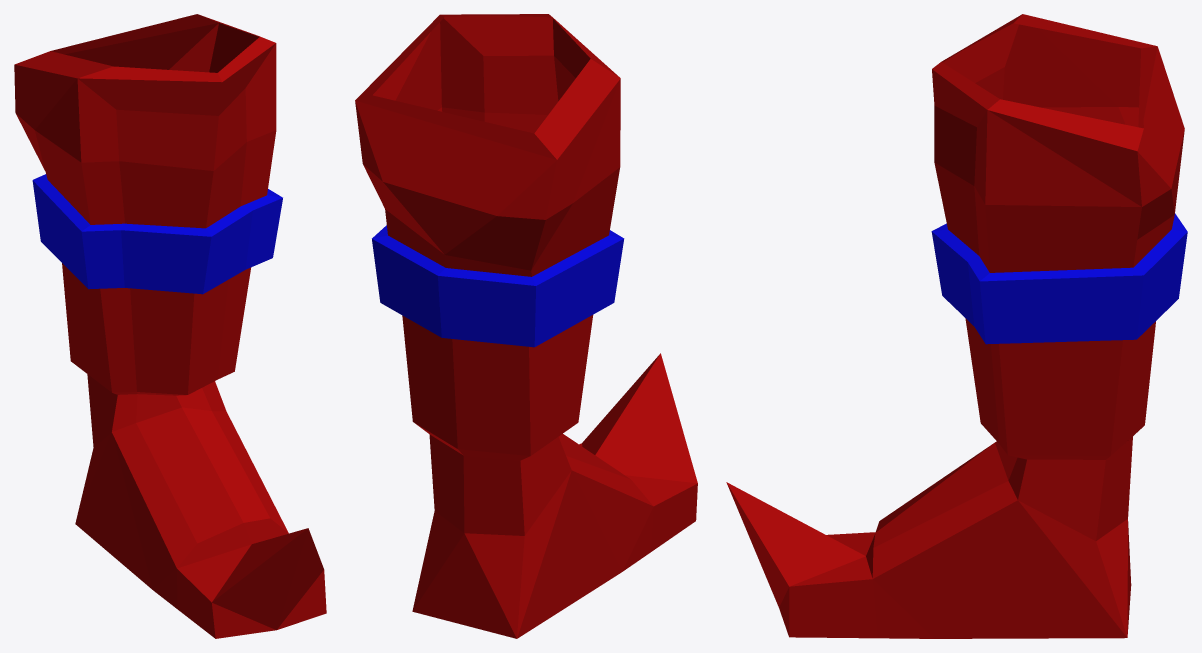
Rendered from Chr_LegLeft_Male_Static_02.fbx.
The picture shows the model from 3 angles, left to right: view 1: azimuth 30°, elevation 25°; view 2: azimuth 150°, elevation 25°; view 3: azimuth 270°, elevation 25°; orthographic projection. The views are drawn at different scales.
Parts seen in each view (by area): view 1: Chr_LegLeft_Male_02; view 2: Chr_LegLeft_Male_02; view 3: Chr_LegLeft_Male_02.
Boxes of the visible parts, x1,y1,x2,y2 form: Chr_LegLeft_Male_02: [14, 14, 326, 638]; Chr_LegLeft_Male_02: [355, 14, 697, 638]; Chr_LegLeft_Male_02: [726, 14, 1187, 638].
Size of the model in its own units: 16.56 by 40.45 by 30.56.
